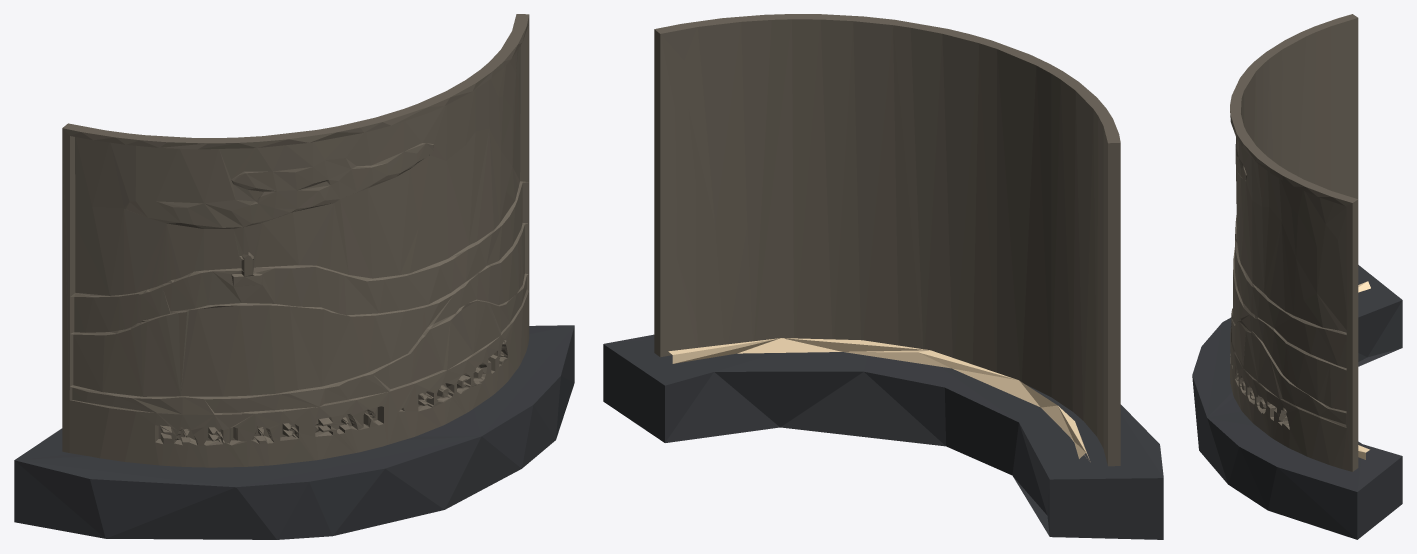
The model's file is litofania.glb.
3 renders of one model, left to right at view 1: azimuth 30°, elevation 25°; view 2: azimuth 150°, elevation 25°; view 3: azimuth 270°, elevation 25°, orthographic. The views are drawn at different scales.
Parts seen in each view (by area): view 1: Lamina, Base; view 2: Lamina, Base, Tira LED; view 3: Lamina, Base.
Part boxes in pixels (x1,y1,x2,y2): Lamina: (62,14,529,467); Base: (14,325,574,539); Lamina: (654,14,1120,466); Base: (603,334,1163,539); Tira LED: (668,338,1090,461); Lamina: (1230,14,1358,471); Base: (1192,265,1402,539).
Size of the model in its own units: 0.1477 by 0.0968 by 0.0579.
